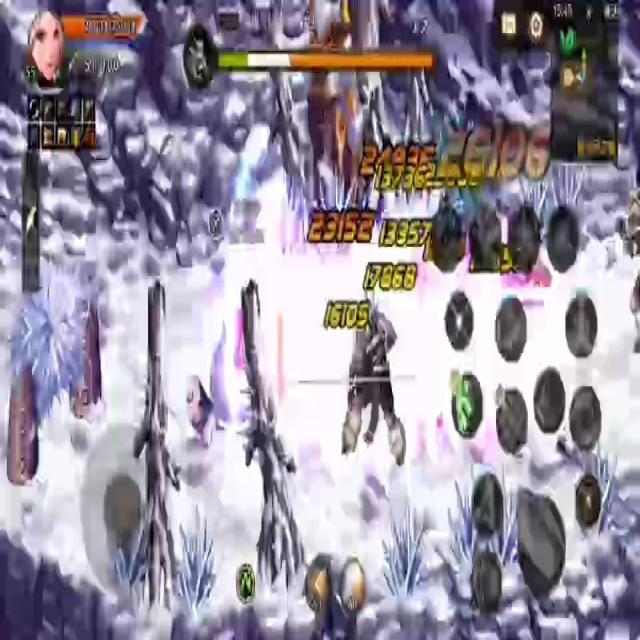player: (210, 288, 262, 430)
